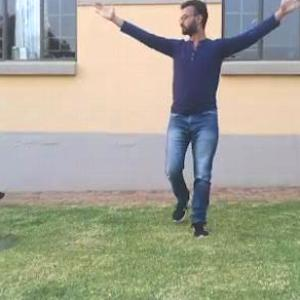takeoff: (90, 0, 296, 229)
